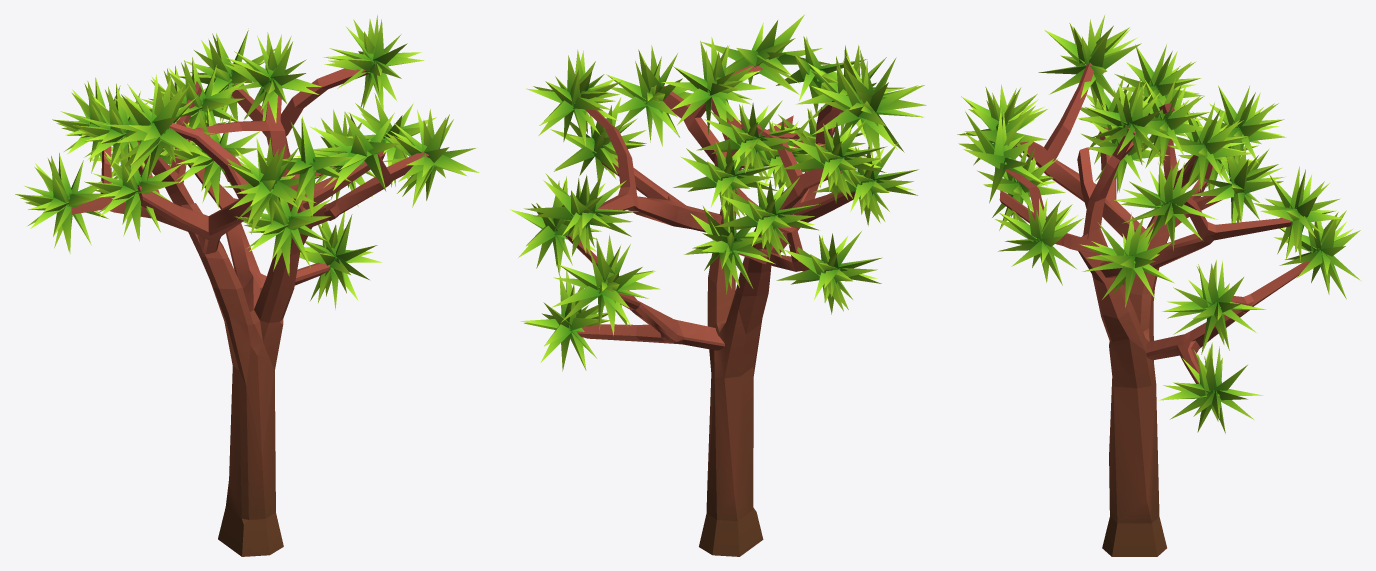
3 views of the same model, side by side, from view 1: azimuth 30°, elevation 25°; view 2: azimuth 150°, elevation 25°; view 3: azimuth 270°, elevation 25° (orthographic). The views are drawn at different scales.
Visible parts, largest first — view 1: JoshuaTree3; view 2: JoshuaTree3; view 3: JoshuaTree3.
Part boxes in pixels (x1,y1,x2,y2): JoshuaTree3: (15,15,479,556); JoshuaTree3: (510,14,926,556); JoshuaTree3: (957,15,1360,556).
Bounding box in the file's own units: 4.76 × 6.13 × 4.74.
1 material, 1 textured.
